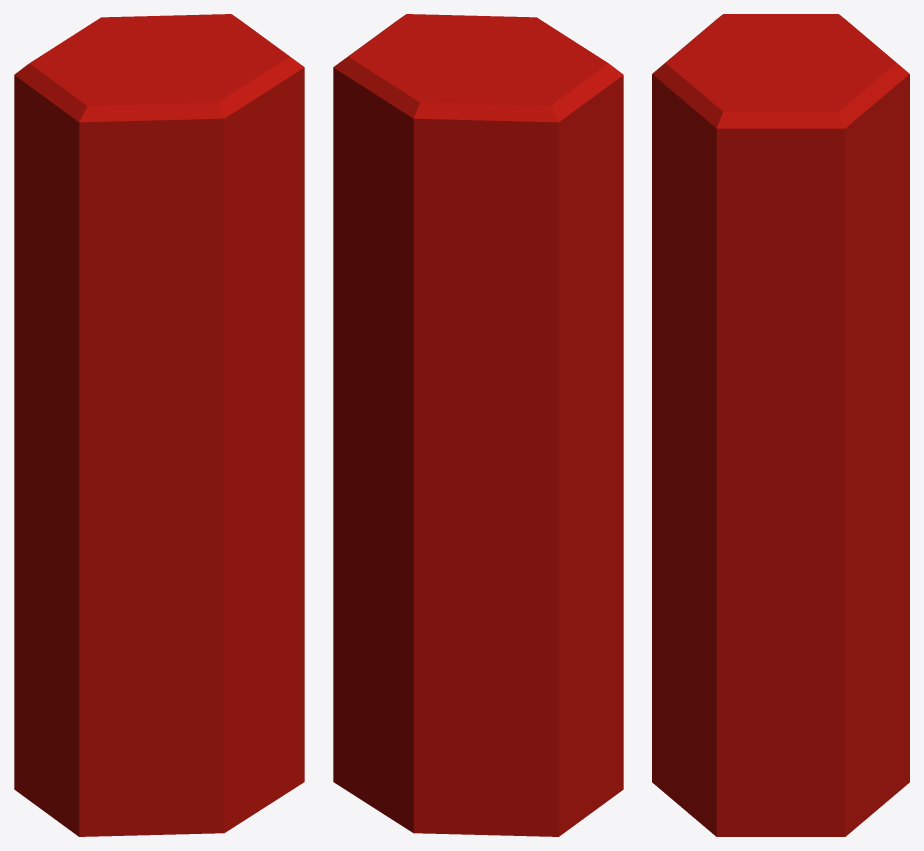
File: coloring cell.fbx
3 renders of one model, left to right at view 1: azimuth 30°, elevation 25°; view 2: azimuth 150°, elevation 25°; view 3: azimuth 270°, elevation 25°, orthographic.
Visible parts, largest first — view 1: Цилиндр; view 2: Цилиндр; view 3: Цилиндр.
Part boxes in pixels (x1=…): Цилиндр: x1=14, y1=14, x2=304, y2=836; Цилиндр: x1=333, y1=14, x2=623, y2=836; Цилиндр: x1=652, y1=14, x2=909, y2=836.
Size of the model in its own units: 99.99 by 307 by 99.76.
